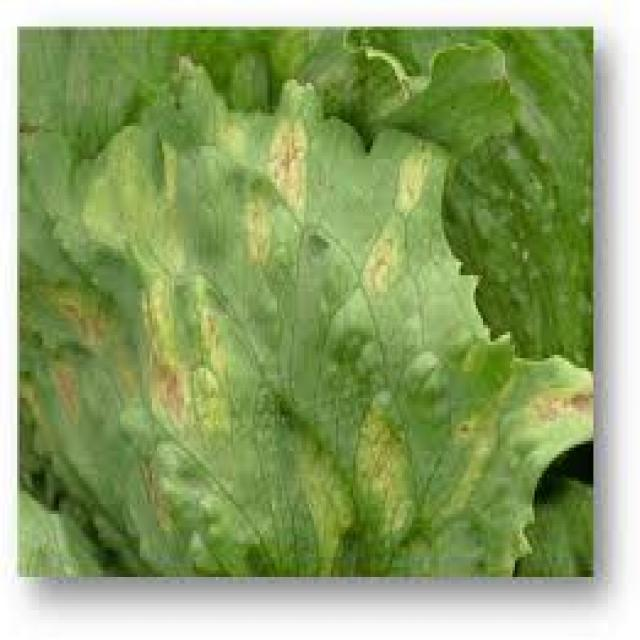Downy_mildew_on_lettuce: (138, 116, 354, 461)
